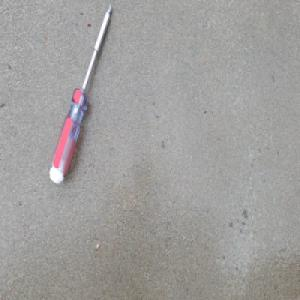Screwdriver: (47, 3, 114, 187)
